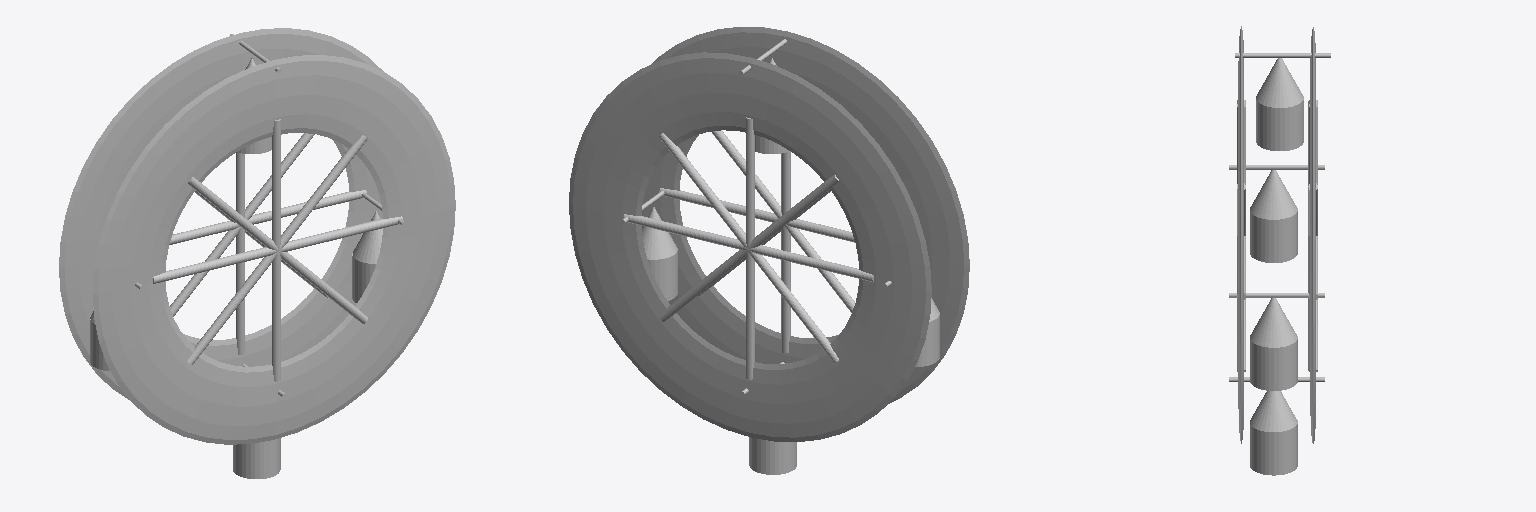
Rendered from RuedaFortuna.obj.
3 renders of one model, left to right at view 1: azimuth 30°, elevation 25°; view 2: azimuth 150°, elevation 25°; view 3: azimuth 270°, elevation 25°, orthographic.
Parts seen in each view (by area): view 1: Cylinder.015_Cylinder.016; view 2: Cylinder.015_Cylinder.016; view 3: Cylinder.015_Cylinder.016.
Part boxes in pixels (x1,y1,x2,y2): Cylinder.015_Cylinder.016: (59, 28, 455, 478); Cylinder.015_Cylinder.016: (569, 27, 969, 474); Cylinder.015_Cylinder.016: (1229, 26, 1330, 475).
Size of the model in its own units: 17.6 by 19.39 by 4.25.